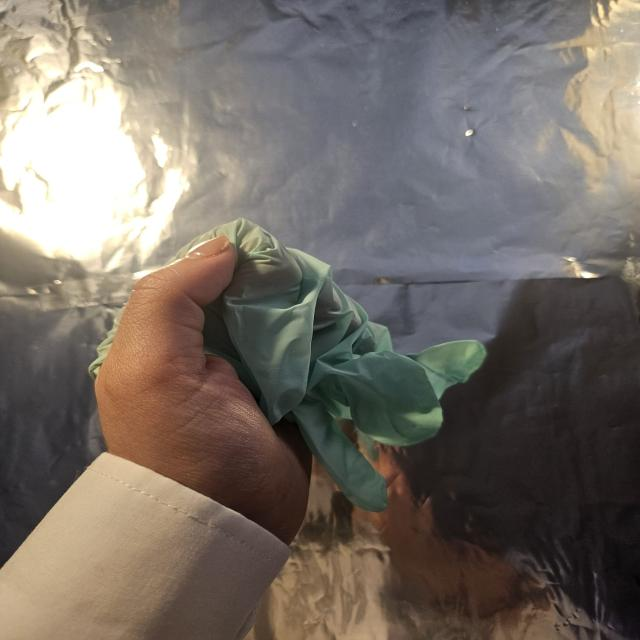glove_partial: (89, 216, 485, 550)
